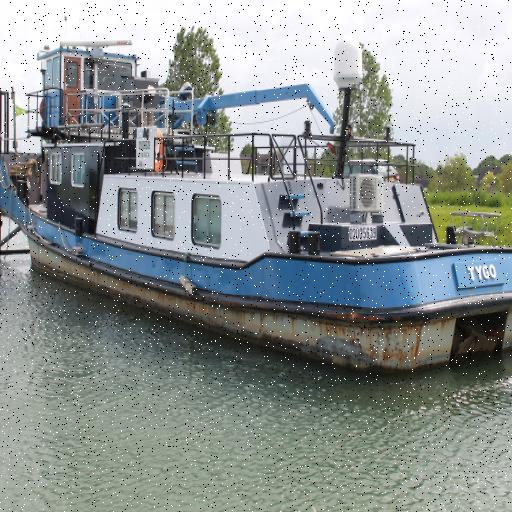tugboat: (1, 38, 512, 380)
